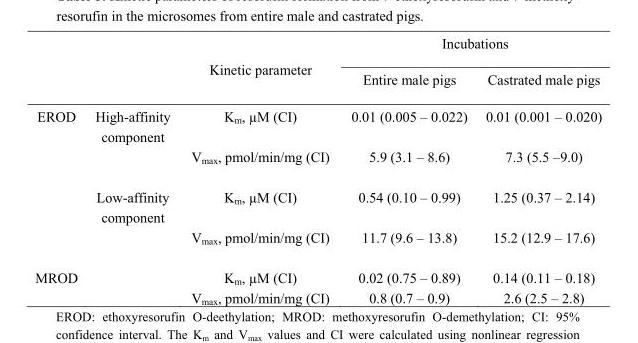table: (34, 34, 601, 306)
table column: (180, 34, 339, 306), (339, 34, 475, 306), (475, 34, 601, 306), (85, 34, 180, 306), (34, 34, 85, 306)
table column header: (34, 34, 601, 97)
table row: (34, 176, 601, 226), (34, 97, 601, 146), (34, 60, 601, 97), (34, 226, 601, 257), (34, 146, 601, 176), (34, 257, 601, 287), (34, 34, 601, 60), (34, 287, 601, 306)
table spanning cell: (180, 34, 339, 97), (34, 97, 85, 257), (339, 34, 601, 60), (34, 257, 85, 306)
